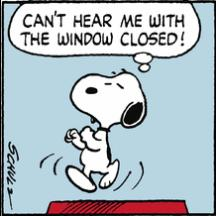snoopy: (64, 67, 148, 193)
